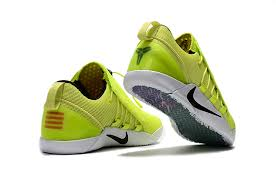nike: (187, 87, 222, 119), (104, 130, 130, 146)
